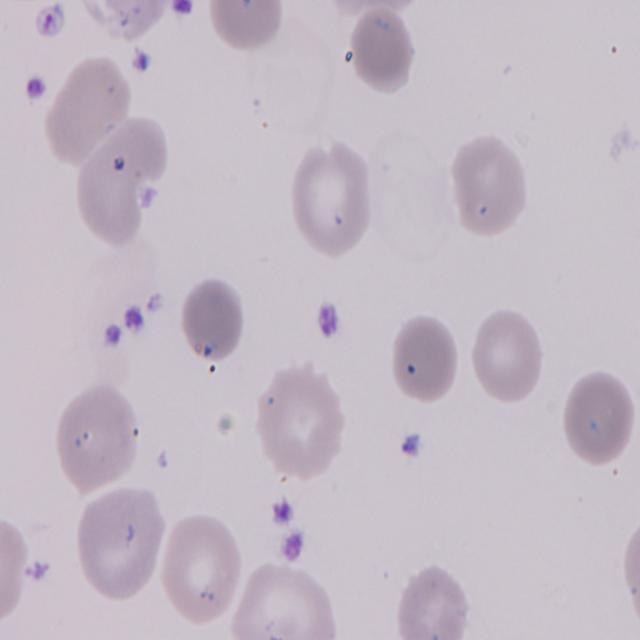RBC: (42, 44, 142, 169), (74, 480, 164, 612), (284, 140, 379, 262), (254, 366, 346, 480), (158, 509, 246, 625), (54, 384, 139, 492), (230, 561, 342, 640), (448, 133, 528, 238), (469, 307, 549, 406), (390, 562, 475, 638), (204, 0, 292, 54), (0, 512, 29, 628)
Spherocyte: (558, 368, 638, 466), (390, 312, 463, 406), (180, 277, 246, 363), (347, 13, 415, 96)
